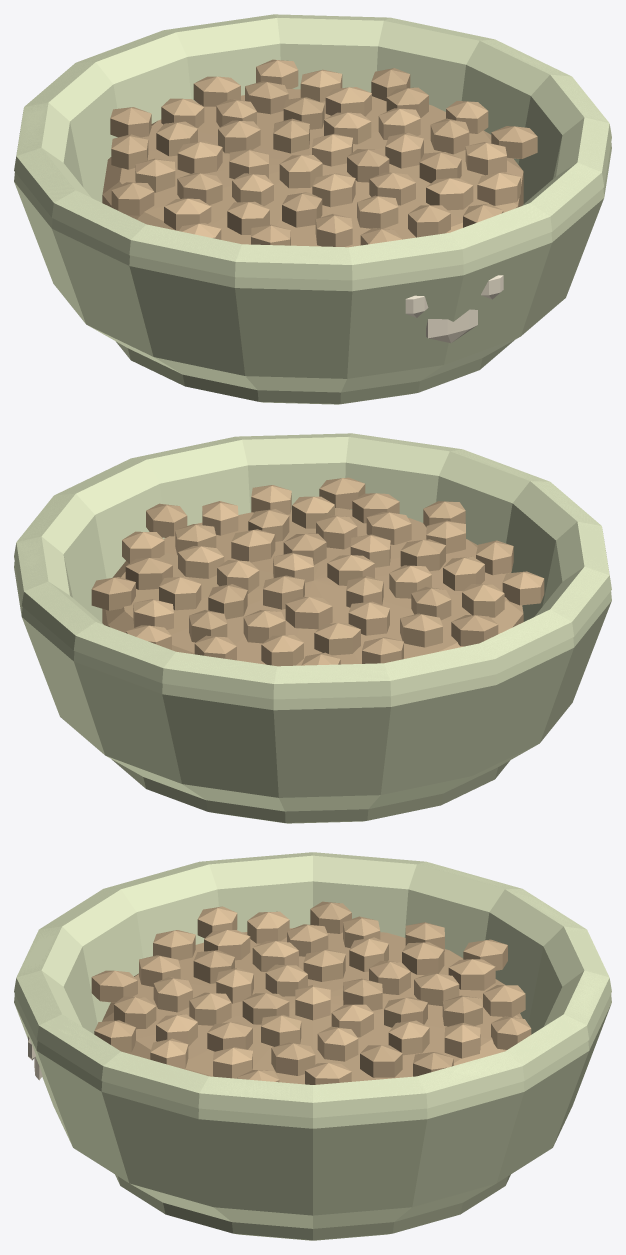
File: crafted-cat-food-4-2.glb
The picture shows the model from 3 angles, top to bottom: view 1: azimuth 30°, elevation 25°; view 2: azimuth 150°, elevation 25°; view 3: azimuth 270°, elevation 25°; orthographic projection.
Visible parts, largest first — view 1: ceramic-bowl, glazed-rim, ration-volume, foot-ring, ration-granule-24, ration-granule-12, ration-granule-37, ration-granule-19, ration-granule-38, ration-granule-1, ration-granule-14, ration-granule-30 (+37 smaller); view 2: ceramic-bowl, glazed-rim, ration-volume, foot-ring, ration-granule-7, ration-granule-20, ration-granule-8, ration-granule-39, ration-granule-25, ration-granule-13, ration-granule-43, ration-granule-30 (+37 smaller); view 3: ceramic-bowl, glazed-rim, ration-volume, foot-ring, ration-granule-40, ration-granule-26, ration-granule-13, ration-granule-28, ration-granule-21, ration-granule-11, ration-granule-36, ration-granule-20 (+37 smaller).
Boxes of the visible parts, <box> form: ceramic-bowl: <box>14,14,611,392</box>; glazed-rim: <box>14,14,611,280</box>; ration-volume: <box>102,89,523,247</box>; foot-ring: <box>116,340,514,404</box>; ration-granule-24: <box>426,178,473,210</box>; ration-granule-12: <box>177,141,222,173</box>; ration-granule-37: <box>477,172,520,205</box>; ration-granule-19: <box>357,195,398,228</box>; ration-granule-38: <box>111,182,154,215</box>; ration-granule-1: <box>279,155,322,188</box>; ration-granule-14: <box>282,192,322,227</box>; ration-granule-30: <box>164,198,211,230</box>; ceramic-bowl: <box>14,433,611,811</box>; glazed-rim: <box>14,433,611,699</box>; ration-volume: <box>102,508,523,665</box>; foot-ring: <box>111,759,509,823</box>; ration-granule-7: <box>285,597,332,629</box>; ration-granule-20: <box>314,623,360,655</box>; ration-granule-8: <box>231,529,275,562</box>; ration-granule-39: <box>91,577,135,610</box>; ration-granule-25: <box>400,613,442,647</box>; ration-granule-13: <box>178,546,224,578</box>; ration-granule-43: <box>502,571,544,605</box>; ration-granule-30: <box>462,584,504,617</box>; ceramic-bowl: <box>14,852,611,1228</box>; glazed-rim: <box>14,852,611,1117</box>; ration-volume: <box>102,928,522,1084</box>; foot-ring: <box>115,1174,510,1240</box>; ration-granule-40: <box>91,970,137,1002</box>; ration-granule-26: <box>360,1045,402,1077</box>; ration-granule-13: <box>317,1026,358,1061</box>; ration-granule-28: <box>448,959,495,990</box>; ration-granule-21: <box>271,1042,315,1075</box>; ration-granule-11: <box>189,992,231,1025</box>; ration-granule-36: <box>483,985,525,1017</box>; ration-granule-20: <box>402,942,444,974</box>.
Size of the model in its own units: 0.76 by 0.265 by 0.76.
